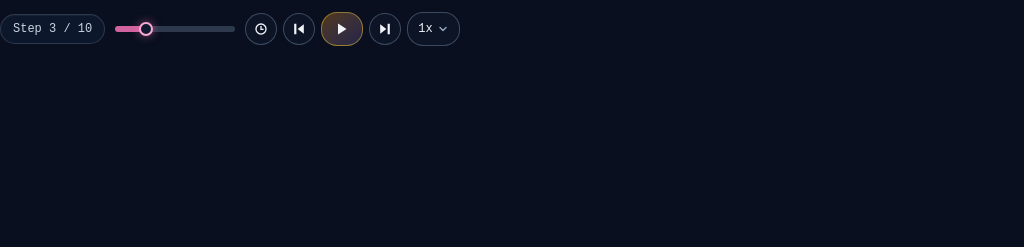
Test: TransportControls › closes the speed menu on Escape and on an outside click
This screenshot has width=1024, height=247.
Click the button named "Playback speed: 1x". click: (433, 29)
box: [407,12,460,46]
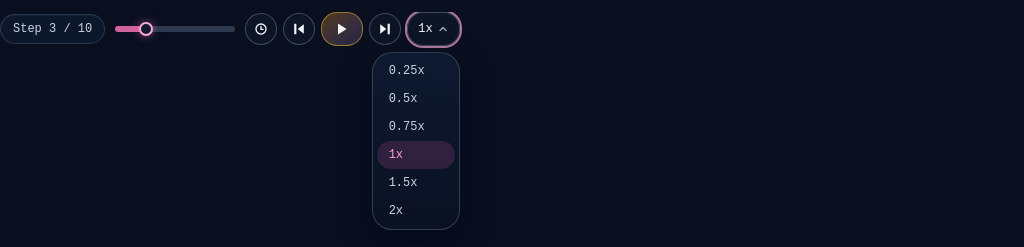
Expected: the list is shown, [372,52,460,230]
Press Escape
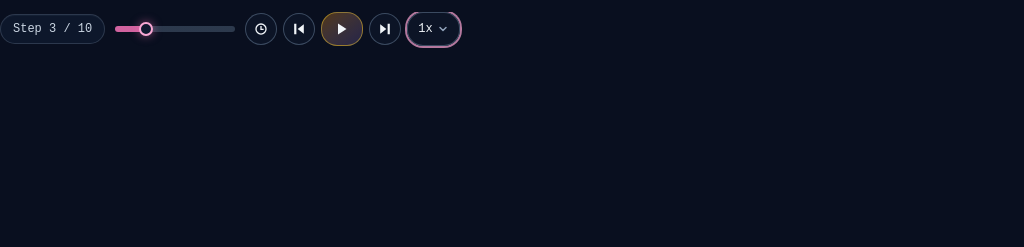
Expected: the list is gone
Click the button named "Playback speed: 1x". click: (433, 29)
box: [407,12,460,46]
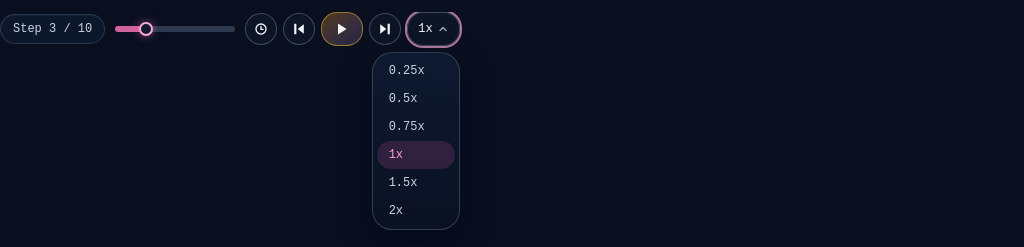
Click the element showing "Step 3 / 10 1x 0.25x 0.5x 0.75x 1x 1.5x 2x". click: (512, 29)
box: [0,12,1023,46]
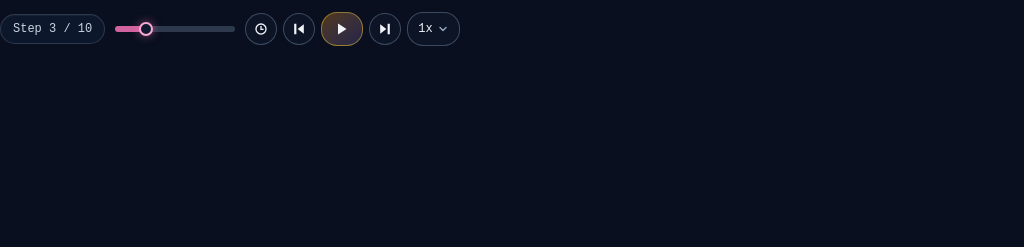
Expected: the list is gone
